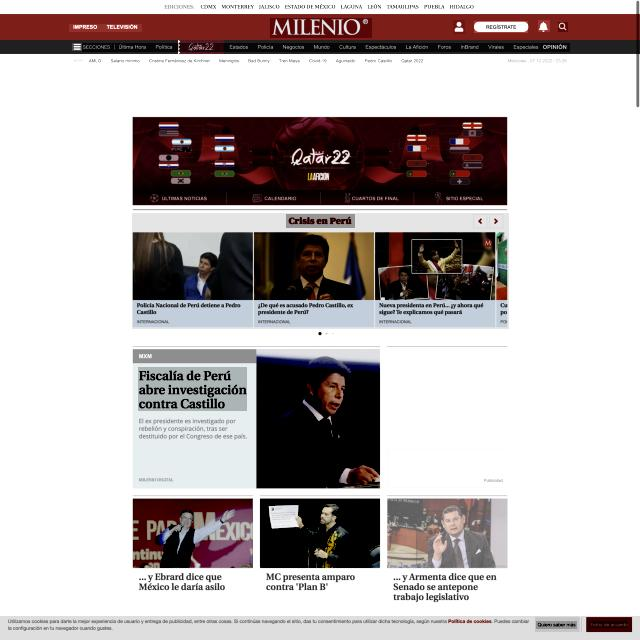CheckBox: (536, 616, 582, 632), (586, 617, 632, 632), (474, 21, 528, 33)
ImageView: (386, 449, 508, 488)
Switch: (132, 213, 509, 329)
bag: (0, 0, 636, 68)
breadcrumbs: (138, 367, 247, 411)
card: (132, 116, 507, 205)
carousel: (453, 20, 465, 34), (538, 20, 550, 32), (558, 22, 568, 32)
copy: (256, 349, 380, 489), (133, 498, 252, 569), (260, 498, 380, 568), (387, 498, 507, 568)
data feed: (538, 621, 579, 629), (589, 621, 628, 628), (486, 23, 518, 31)
date picker: (270, 18, 372, 38)
decoration: (81, 43, 570, 52), (199, 1, 476, 12), (72, 57, 428, 65), (69, 24, 142, 32), (72, 43, 82, 51)
header: (0, 616, 640, 640)
image: (286, 214, 355, 228)
